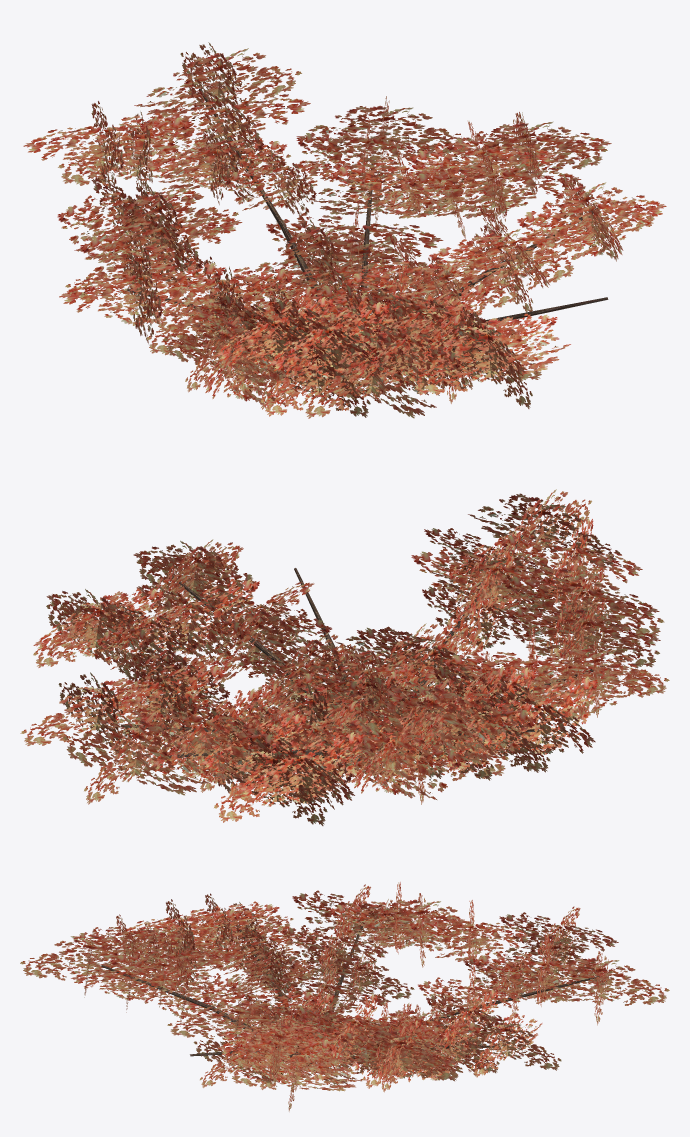
Rendered from bush_3d_04_copper_lod1.glb.
3 renders of one model, top to bottom at view 1: azimuth 30°, elevation 25°; view 2: azimuth 150°, elevation 25°; view 3: azimuth 270°, elevation 25°, orthographic. The views are drawn at different scales.
Parts seen in each view (by area): view 1: foliage_cards, wood_geometry; view 2: foliage_cards, wood_geometry; view 3: foliage_cards, wood_geometry.
Boxes of the visible parts, box(x1,y1,x2,y2) form: foliage_cards: box(23, 42, 666, 418); wood_geometry: box(127, 88, 608, 357); foliage_cards: box(20, 489, 669, 825); wood_geometry: box(121, 534, 604, 761); foliage_cards: box(20, 882, 669, 1111); wood_geometry: box(101, 916, 599, 1068).
Bounding box in the file's own units: 2.74 × 0.816 × 3.7.
Materials: 2 (2 with a texture image).
